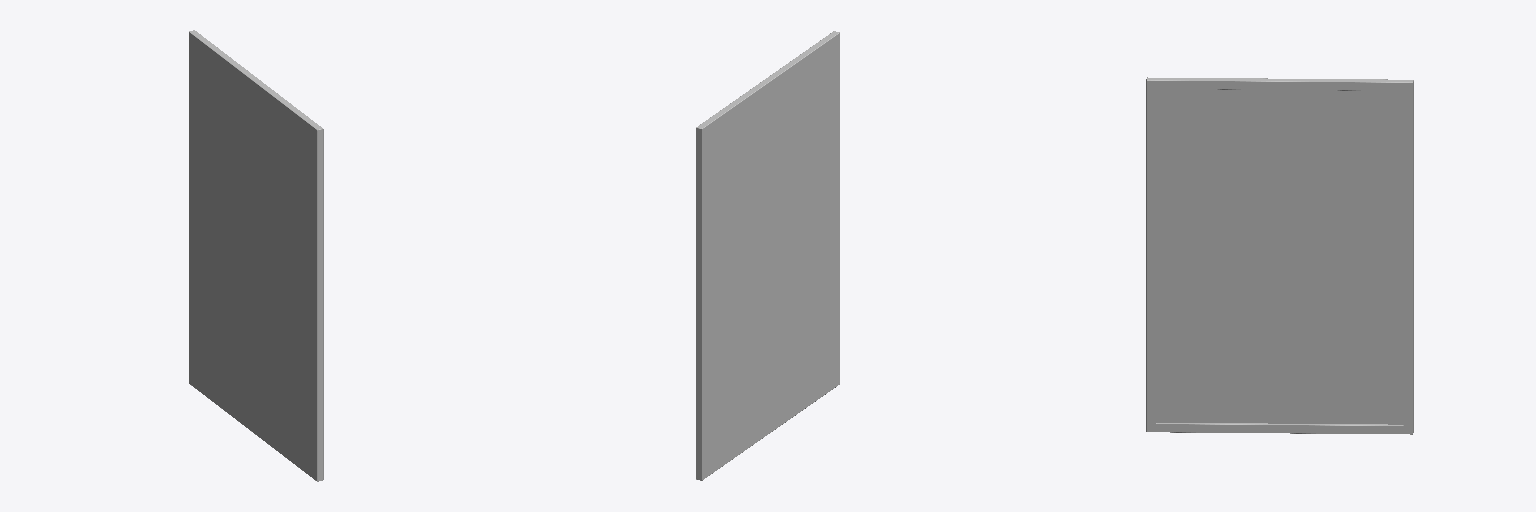
Rendered from palm-tree.obj.
The picture shows the model from 3 angles: view 1: azimuth 30°, elevation 25°; view 2: azimuth 150°, elevation 25°; view 3: azimuth 270°, elevation 25°; orthographic projection.
Visible parts, largest first — view 1: PalmTree; view 2: PalmTree; view 3: PalmTree.
Boxes of the visible parts, <box> form: PalmTree: <box>189,30,323,481</box>; PalmTree: <box>696,31,839,480</box>; PalmTree: <box>1146,77,1413,434</box>.
Size of the model in its own units: 0.1658 by 5.14 by 3.53.